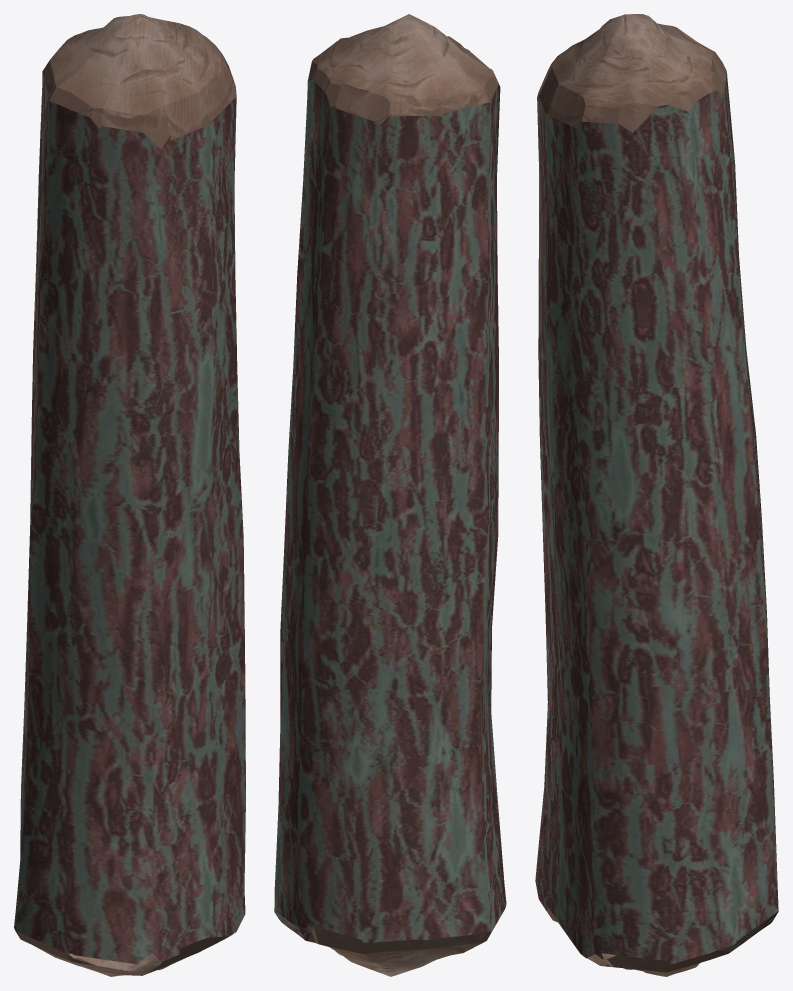
3 views of the same model, side by side, from view 1: azimuth 30°, elevation 25°; view 2: azimuth 150°, elevation 25°; view 3: azimuth 270°, elevation 25° (orthographic). The views are drawn at different scales.
Parts seen in each view (by area): view 1: SM_MapleTree_02_quarter_01_LOD0; view 2: SM_MapleTree_02_quarter_01_LOD0; view 3: SM_MapleTree_02_quarter_01_LOD0.
Part boxes in pixels (x1,y1,x2,y2): SM_MapleTree_02_quarter_01_LOD0: [14, 14, 245, 976]; SM_MapleTree_02_quarter_01_LOD0: [274, 14, 506, 976]; SM_MapleTree_02_quarter_01_LOD0: [535, 14, 778, 976].
Size of the model in its own units: 0.6375 by 2.76 by 0.6343.
1 material, 1 textured.
